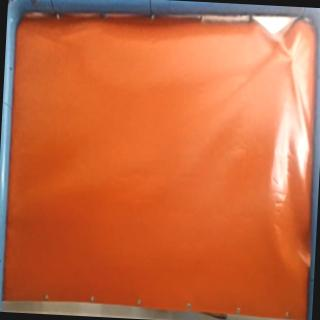Hit-hRxx: (284, 49, 300, 68)
